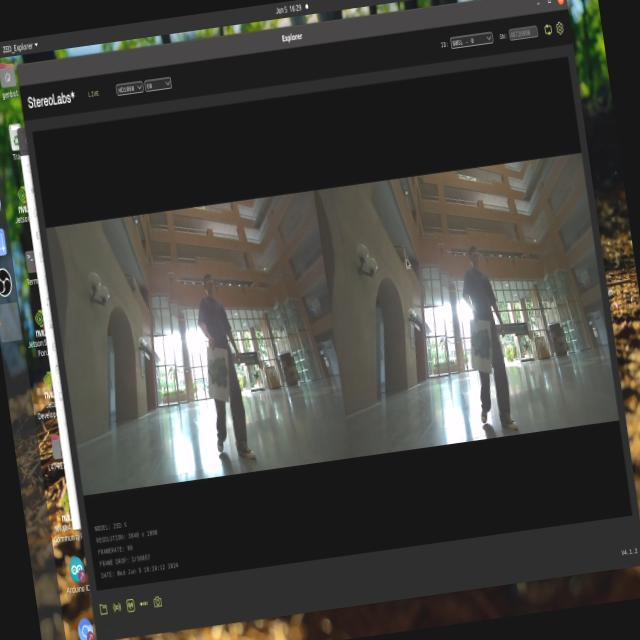green: (197, 349, 238, 402), (466, 321, 492, 366)
